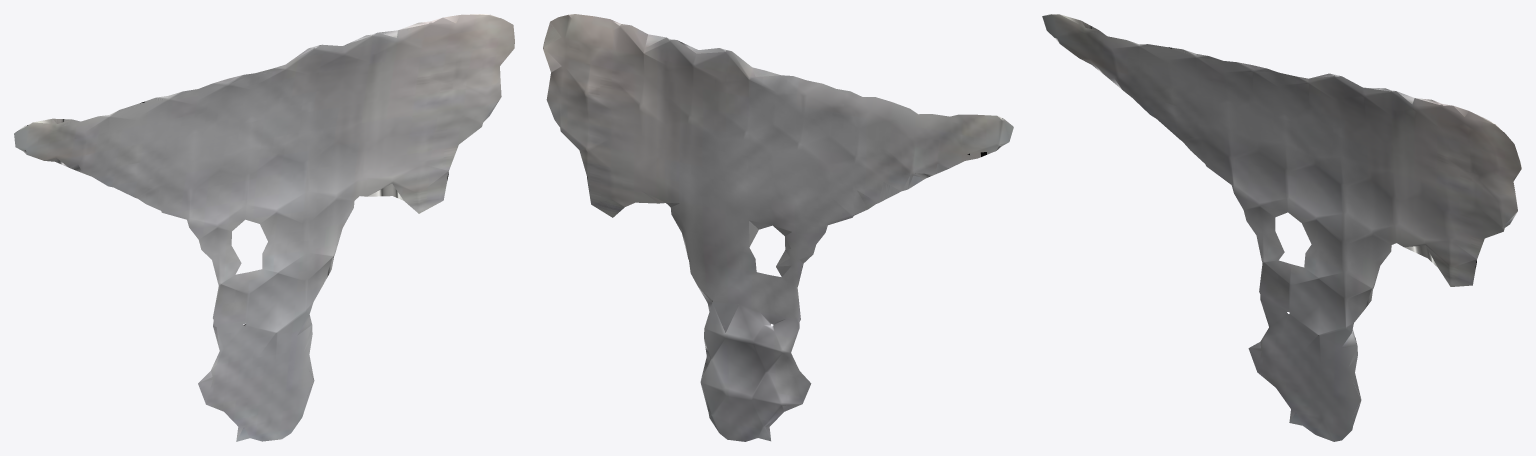
File: 15_45_30_20_manuscript.glb
The picture shows the model from 3 angles, left to right: view 1: azimuth 30°, elevation 25°; view 2: azimuth 150°, elevation 25°; view 3: azimuth 330°, elevation 25°; orthographic projection. The views are drawn at different scales.
Visible parts, largest first — view 1: world; view 2: world; view 3: world.
Boxes of the visible parts, <box> form: world: <box>14,14,514,441</box>; world: <box>543,14,1013,441</box>; world: <box>1042,14,1521,441</box>.
Bounding box in the file's own units: 0.375 × 0.2861 × 0.0289.
1 material, 1 textured.
